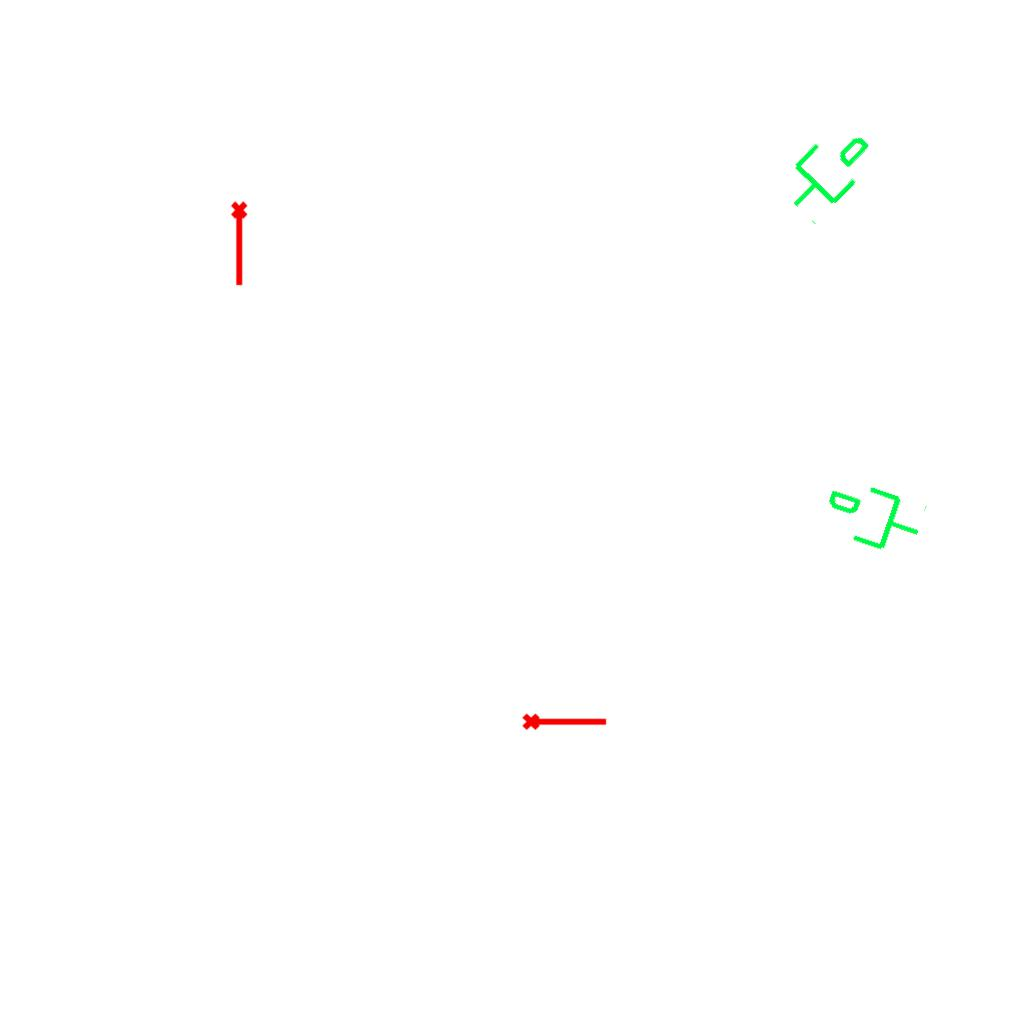ASR_Ansaugoeffnung: (521, 709, 609, 732), (229, 200, 252, 288)
Datenanschluss_einfach: (766, 110, 887, 230), (813, 470, 932, 568)
